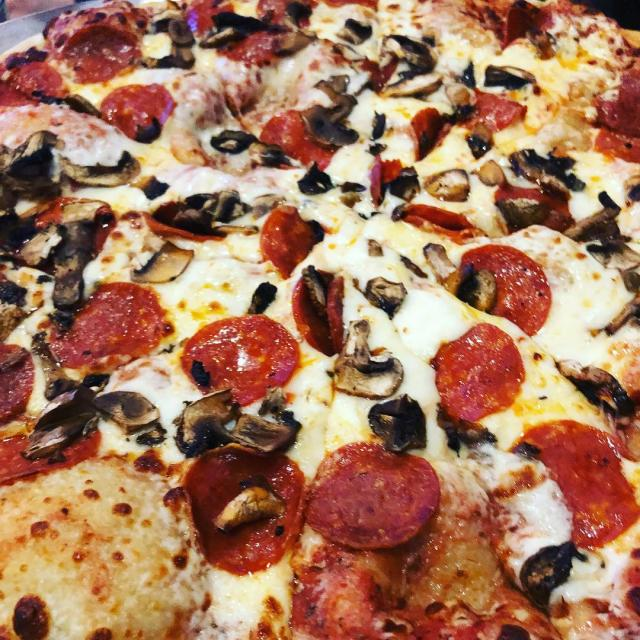mushrooms: (175, 388, 289, 457), (334, 318, 404, 398), (58, 200, 109, 308), (554, 358, 635, 418), (0, 128, 65, 200), (367, 392, 428, 459), (212, 478, 284, 534), (519, 538, 576, 608), (508, 147, 586, 193), (58, 150, 142, 190), (557, 194, 622, 243), (90, 390, 164, 433), (128, 240, 196, 286), (434, 407, 494, 458), (141, 18, 193, 71), (18, 223, 67, 270), (583, 231, 640, 271), (457, 262, 498, 315), (492, 195, 554, 230), (377, 65, 445, 96), (362, 276, 412, 318), (304, 109, 360, 145), (384, 36, 437, 70), (423, 167, 471, 202), (482, 63, 538, 91), (333, 16, 378, 48), (212, 126, 256, 158), (420, 244, 459, 280), (211, 190, 250, 224), (258, 384, 287, 415)
pepperoni: (177, 445, 316, 577), (506, 417, 640, 552), (306, 440, 446, 552), (46, 280, 169, 370), (180, 314, 299, 407), (430, 320, 531, 425), (457, 241, 551, 337), (0, 421, 100, 486), (96, 82, 178, 143), (295, 265, 349, 355), (58, 27, 142, 82), (260, 110, 335, 169), (259, 201, 312, 278), (498, 185, 576, 232), (0, 56, 63, 110), (460, 86, 528, 134), (394, 204, 486, 239), (588, 78, 640, 134), (0, 343, 33, 426), (218, 26, 282, 68), (502, 0, 548, 51), (185, 0, 234, 39), (249, 0, 317, 27), (411, 107, 448, 156), (596, 129, 640, 166), (321, 0, 382, 12)
pizza: (0, 0, 640, 640)
